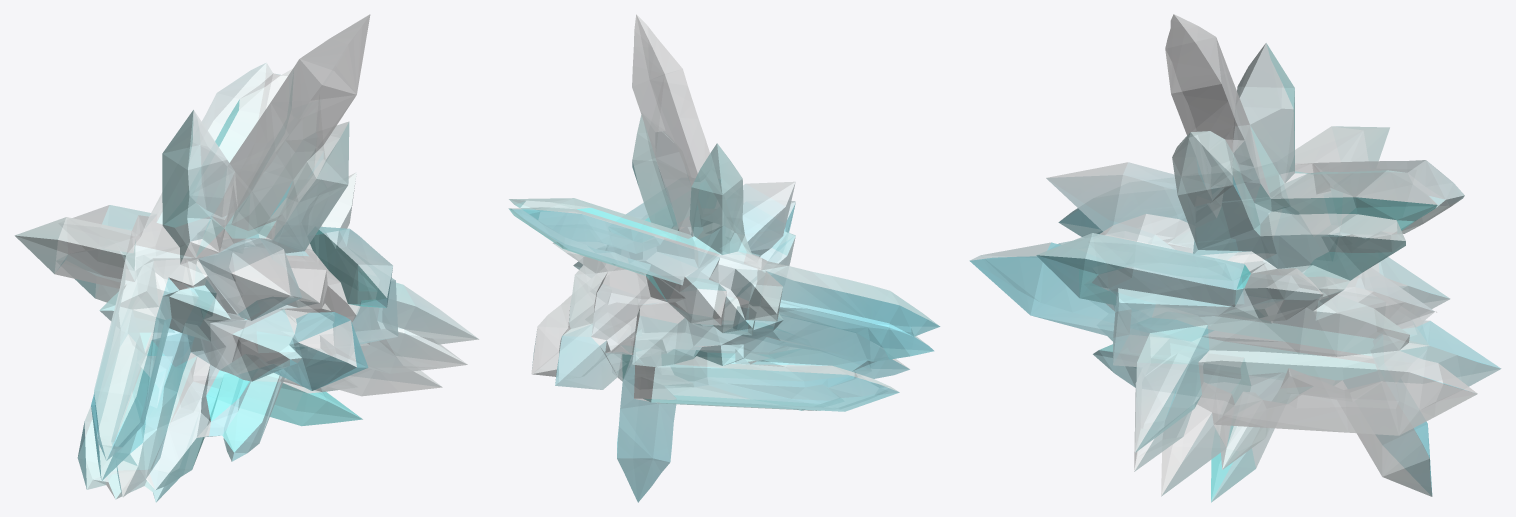
File: VoidDiamond_Extractable3.glb
3 views of the same model, side by side, from view 1: azimuth 30°, elevation 25°; view 2: azimuth 150°, elevation 25°; view 3: azimuth 270°, elevation 25° (orthographic). The views are drawn at different scales.
Parts seen in each view (by area): view 1: Extractable 3; view 2: Extractable 3; view 3: Extractable 3.
Boxes of the visible parts, box(x1,y1,x2,y2) form: Extractable 3: box(14, 14, 479, 502); Extractable 3: box(508, 14, 940, 502); Extractable 3: box(969, 14, 1501, 502).
Size of the model in its own units: 1.27 by 1.42 by 1.25.
1 material, 1 textured.
